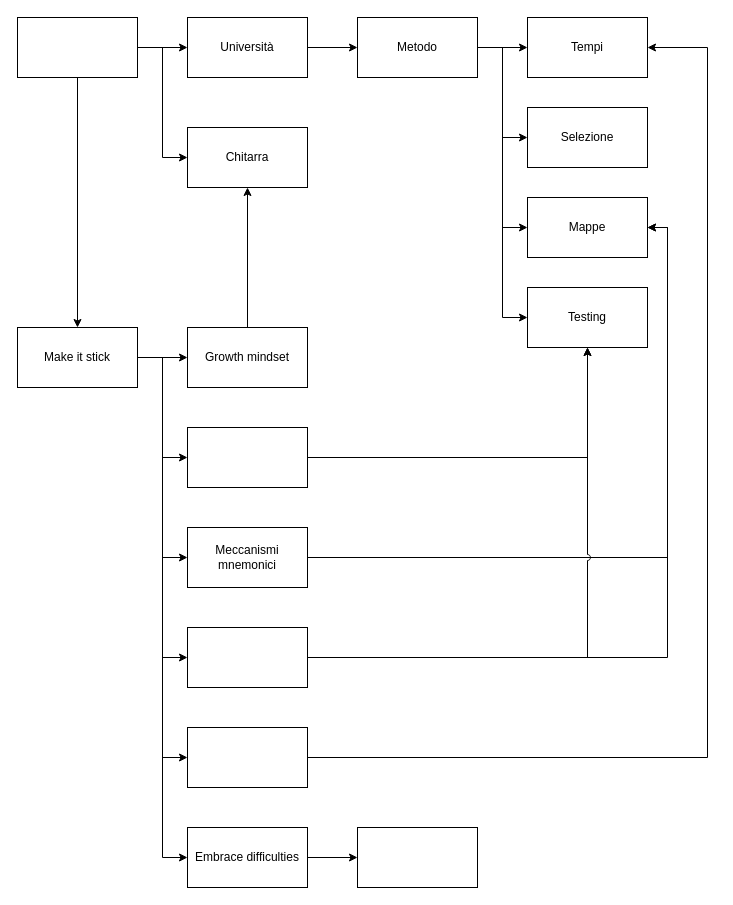
Some shapes in this 733 by 905 pixel diagram are drawn without their labels. The box of each missing label's shape, as (x1, y1, x2, y2) in pixels:
Generation: (186, 626, 308, 688)
Interleave: (186, 726, 308, 788)
Mia esperienza: (16, 16, 138, 78)
Retrieve (testing): (186, 426, 308, 488)
Test project: (356, 826, 478, 888)
